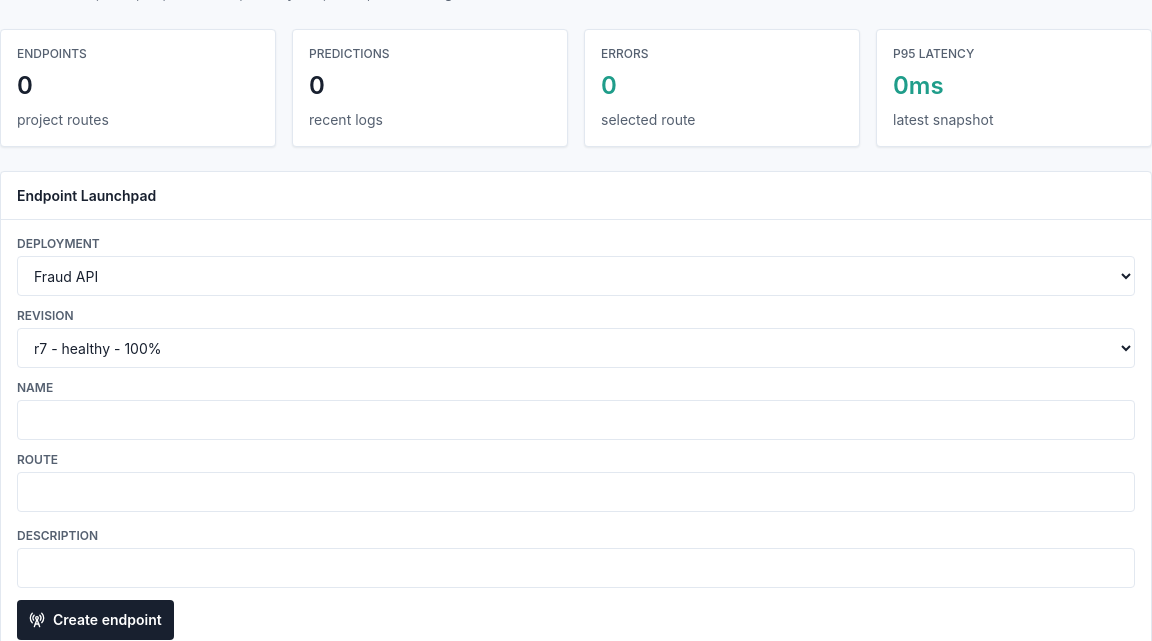
Test: InferencePage › creates an endpoint, probes it, and records a metric snapshot
The width and height of the screenshot is (1152, 641).
Type "Fraud Scoring Endpoint" into the field labelled "Name".
click(576, 420); type("Fraud Scoring Endpoint")  # box [17,400,1135,440]
Type "/inference/fraud-scoring" into the field labelled "Route".
click(576, 492); type("/inference/fraud-scoring")  # box [17,472,1135,512]
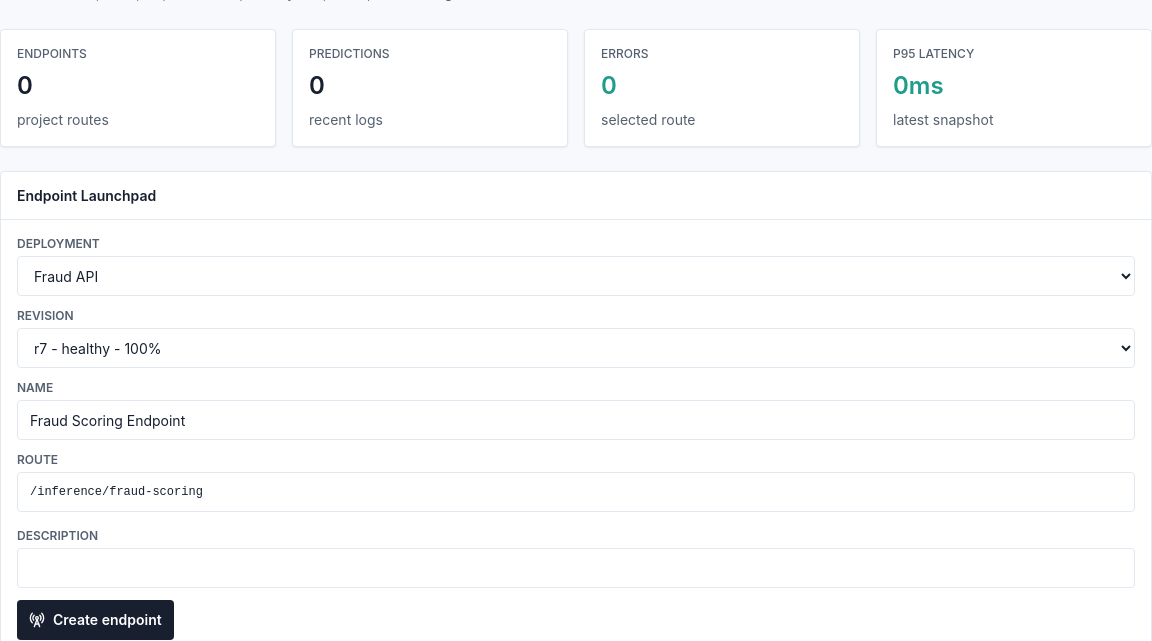
Type "Payment risk online scoring" into the field labelled "Description".
click(576, 568); type("Payment risk online scoring")  # box [17,548,1135,588]
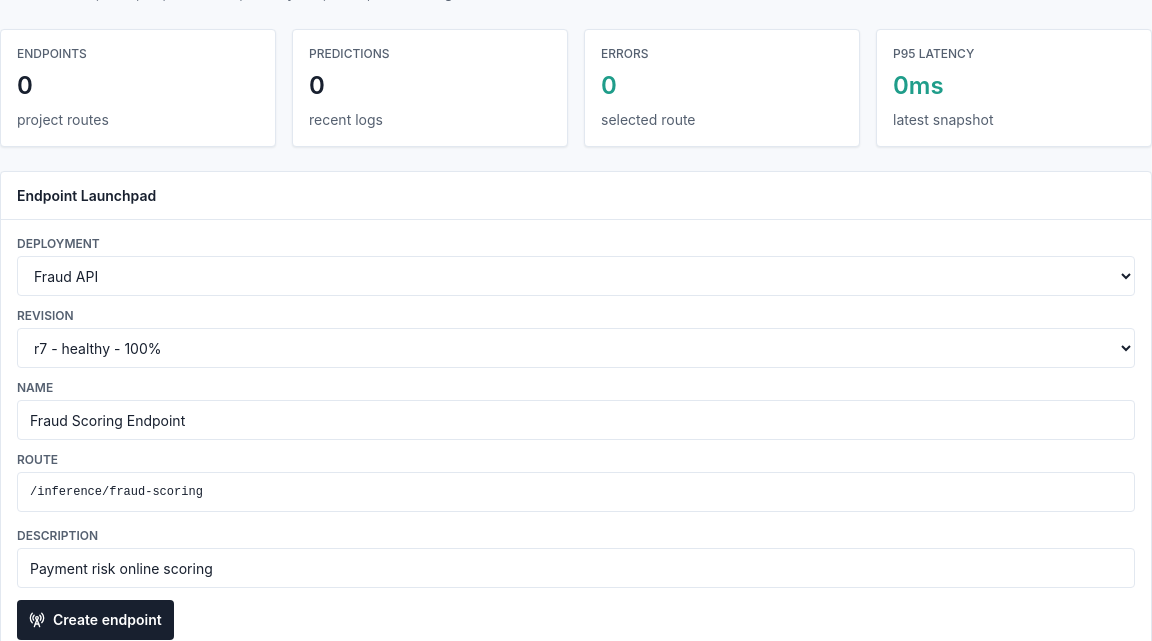
Click the button "Create endpoint".
click(95, 620)  # box [17,600,174,640]
(page scrolled)
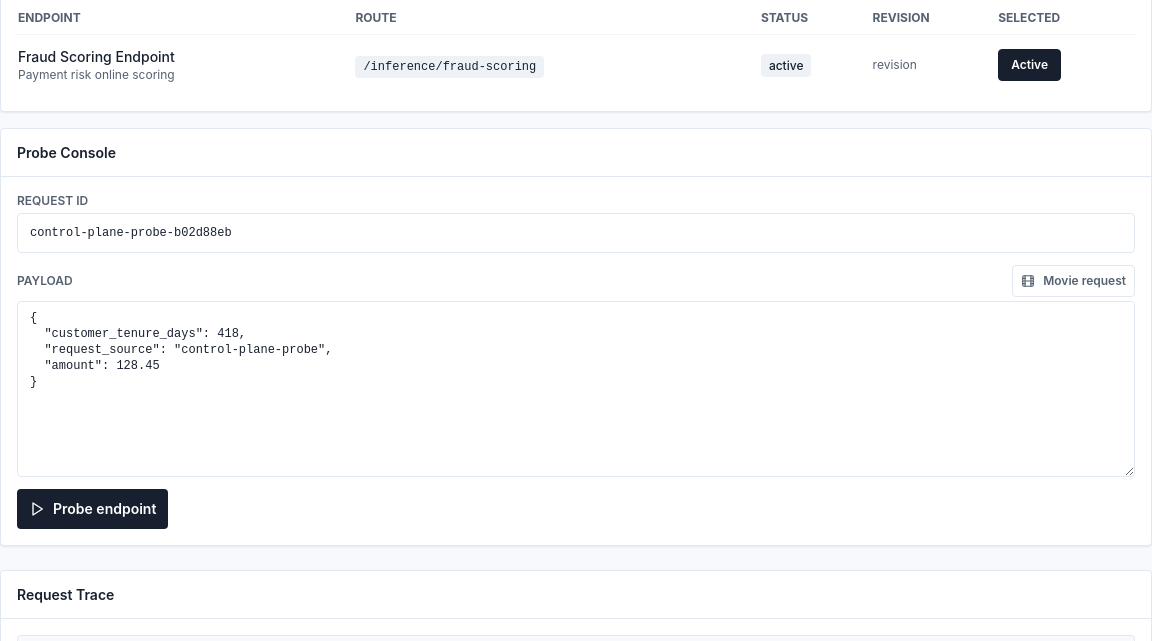
Check: the form named "Probe inference endpoint" is shown, box [17,193,1135,529]
Check: the button "Probe endpoint" is enabled, box [17,489,168,529]
Click the button "Movie request".
click(1074, 281)  # box [1012,265,1135,297]
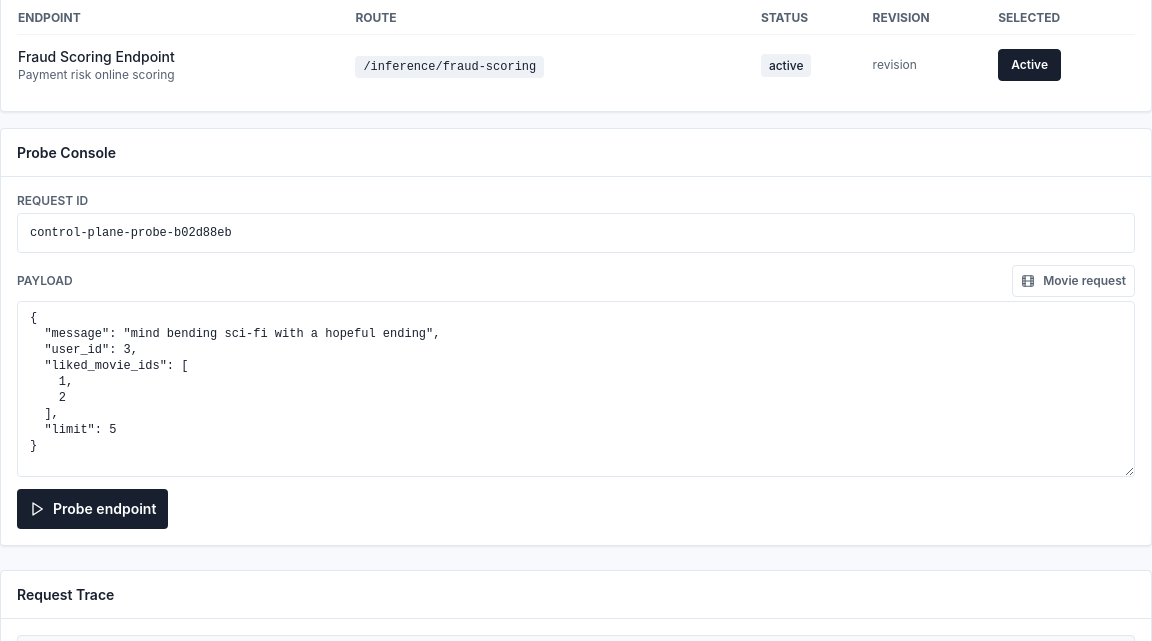
Click the button "Probe endpoint".
click(93, 509)  # box [17,489,168,529]
(page scrolled)
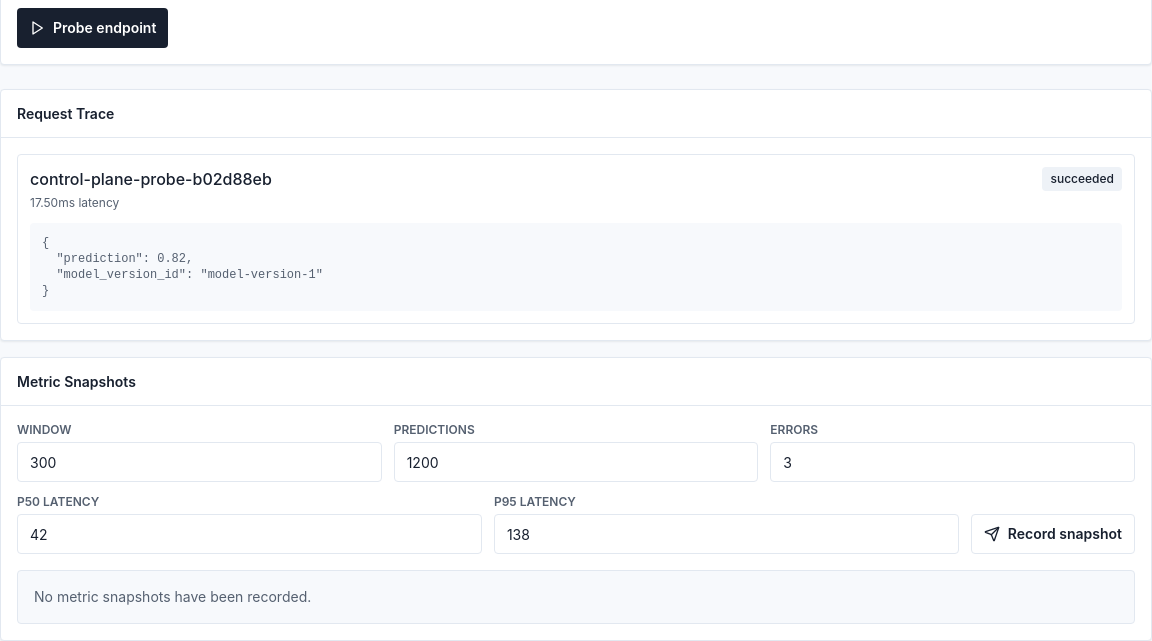
Click the button "Record snapshot".
click(1053, 534)  # box [971,514,1135,554]
(page scrolled)
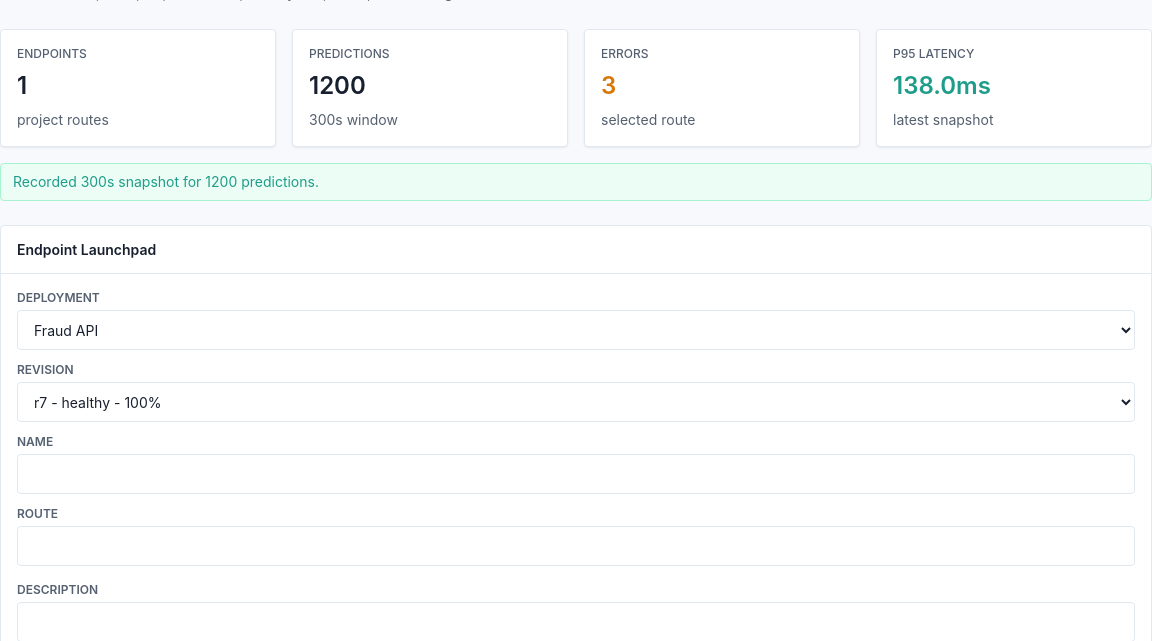
Check: the text "Recorded 300s snapshot for 1200 predictions." is shown, box [0,163,1151,201]
